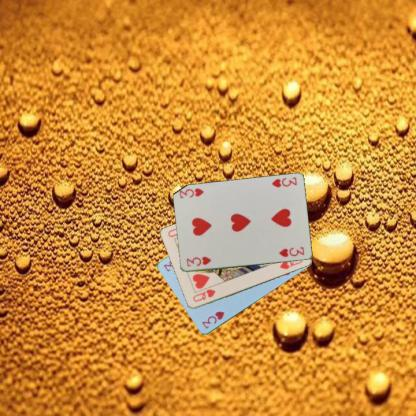3h: (199, 308, 226, 330), (269, 174, 298, 189), (184, 254, 212, 268)
Qh: (190, 286, 217, 304)
